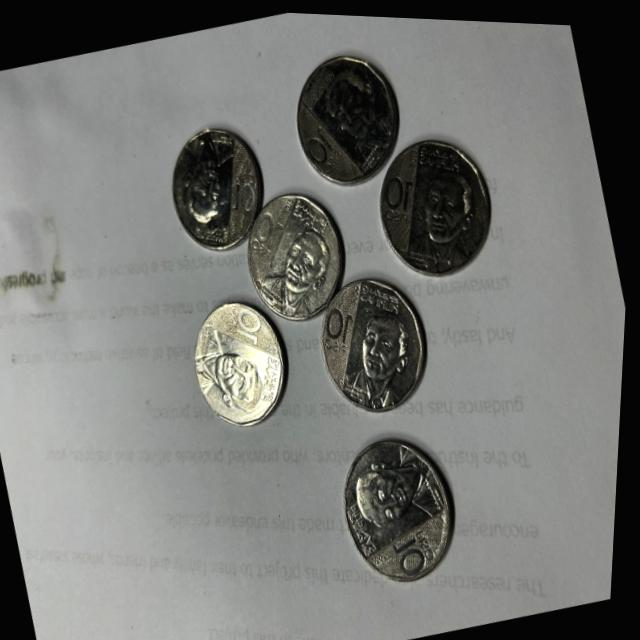10_New_Front: (382, 519, 445, 574), (296, 110, 346, 175), (247, 200, 289, 260), (224, 298, 276, 346), (376, 163, 414, 222), (320, 300, 359, 356), (226, 161, 263, 218)
